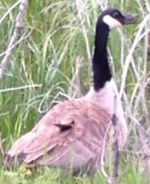goose: (3, 6, 142, 181)
